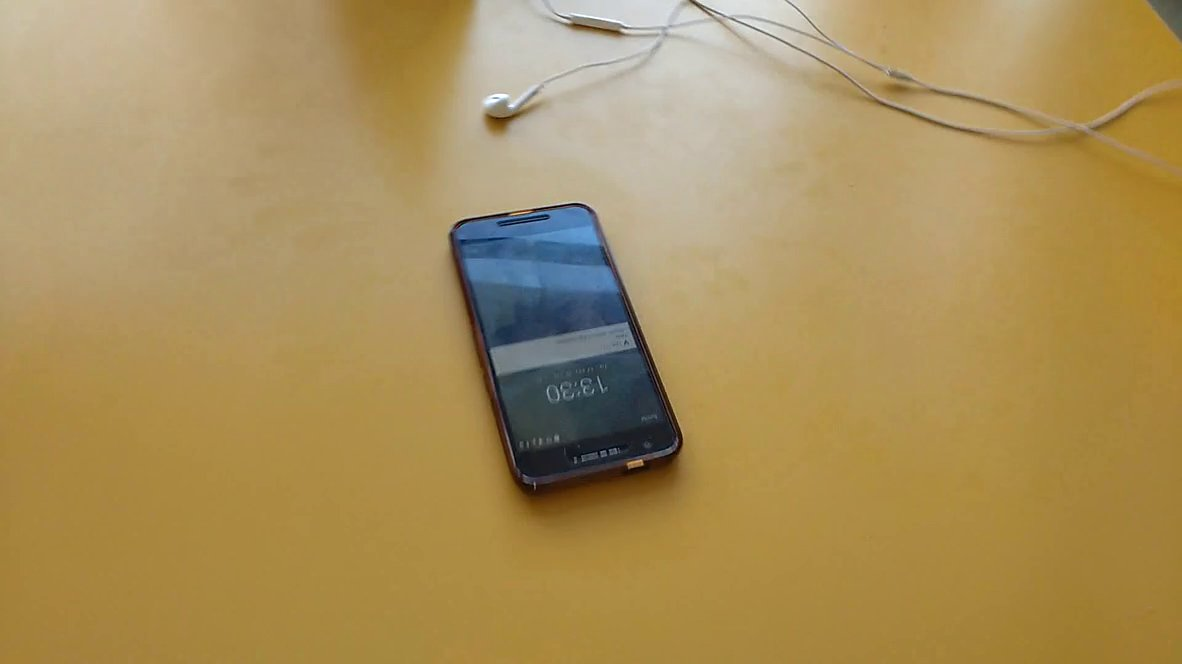phone: (437, 184, 701, 505)
